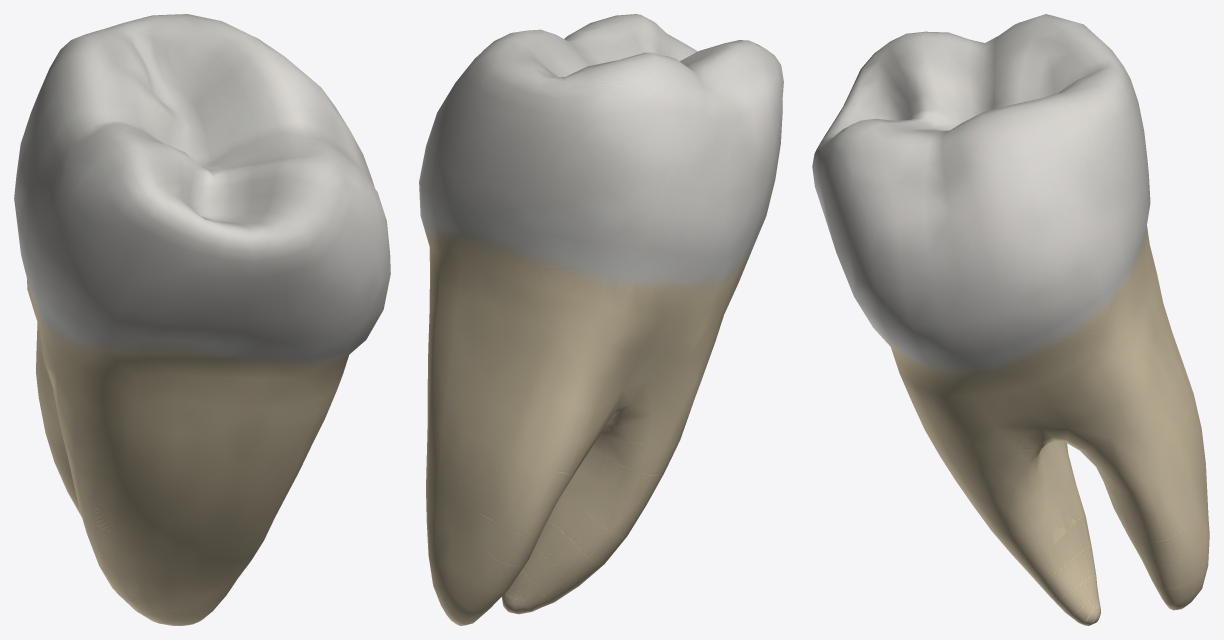
Rendered from tooth-37.glb.
The picture shows the model from 3 angles, left to right: view 1: azimuth 30°, elevation 25°; view 2: azimuth 150°, elevation 25°; view 3: azimuth 270°, elevation 25°; orthographic projection. The views are drawn at different scales.
Parts seen in each view (by area): view 1: LL7seam_2:ZBrushPolyMesh3D_Mandible_ll7_0; view 2: LL7seam_2:ZBrushPolyMesh3D_Mandible_ll7_0; view 3: LL7seam_2:ZBrushPolyMesh3D_Mandible_ll7_0.
Boxes of the visible parts, x1,y1,x2,y2 form: LL7seam_2:ZBrushPolyMesh3D_Mandible_ll7_0: [14, 14, 390, 625]; LL7seam_2:ZBrushPolyMesh3D_Mandible_ll7_0: [419, 14, 783, 625]; LL7seam_2:ZBrushPolyMesh3D_Mandible_ll7_0: [812, 14, 1209, 625].
Bounding box in the file's own units: 0.3598 × 0.6505 × 0.4232.
Materials: 1 (1 with a texture image).
